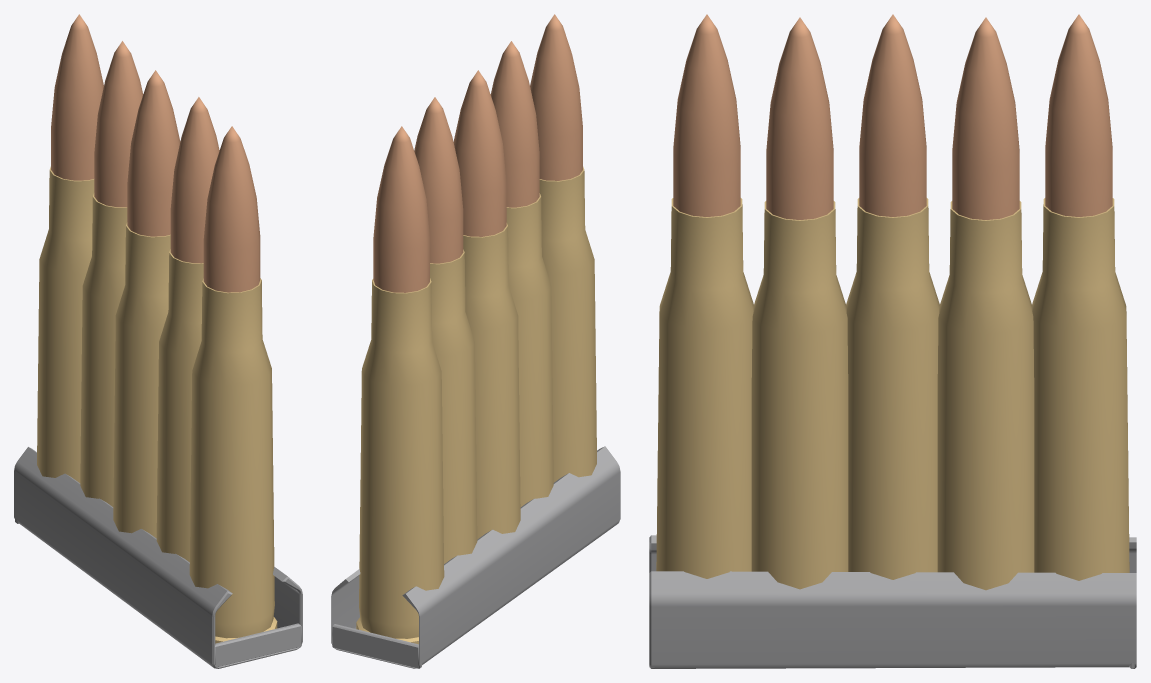
Rendered from mosin_clip.glb.
3 renders of one model, left to right at view 1: azimuth 30°, elevation 25°; view 2: azimuth 150°, elevation 25°; view 3: azimuth 270°, elevation 25°, orthographic. The views are drawn at different scales.
Visible parts, largest first — view 1: round_5, static_clip, round_1, round_3, round_2, round_4; view 2: round_1, round_3, round_5, static_clip, round_2, round_4; view 3: static_clip, round_2, round_4, round_1, round_5, round_3.
Boxes of the visible parts, x1,y1,x2,y2 form: round_5: (189, 126, 277, 643); static_clip: (14, 447, 302, 668); round_1: (37, 14, 103, 482); round_3: (113, 70, 180, 538); round_2: (80, 41, 143, 506); round_4: (156, 97, 219, 562); round_1: (356, 126, 444, 644); round_3: (453, 70, 520, 539); round_5: (530, 14, 596, 482); static_clip: (331, 446, 620, 668); round_2: (414, 97, 477, 563); round_4: (490, 41, 553, 506); static_clip: (649, 535, 1136, 668); round_2: (937, 17, 1034, 590); round_4: (751, 17, 848, 589); round_1: (1032, 14, 1129, 580); round_5: (656, 14, 753, 578); round_3: (846, 14, 939, 579).
Bounding box in the file's own units: 0.0144 × 0.0793 × 0.055.
